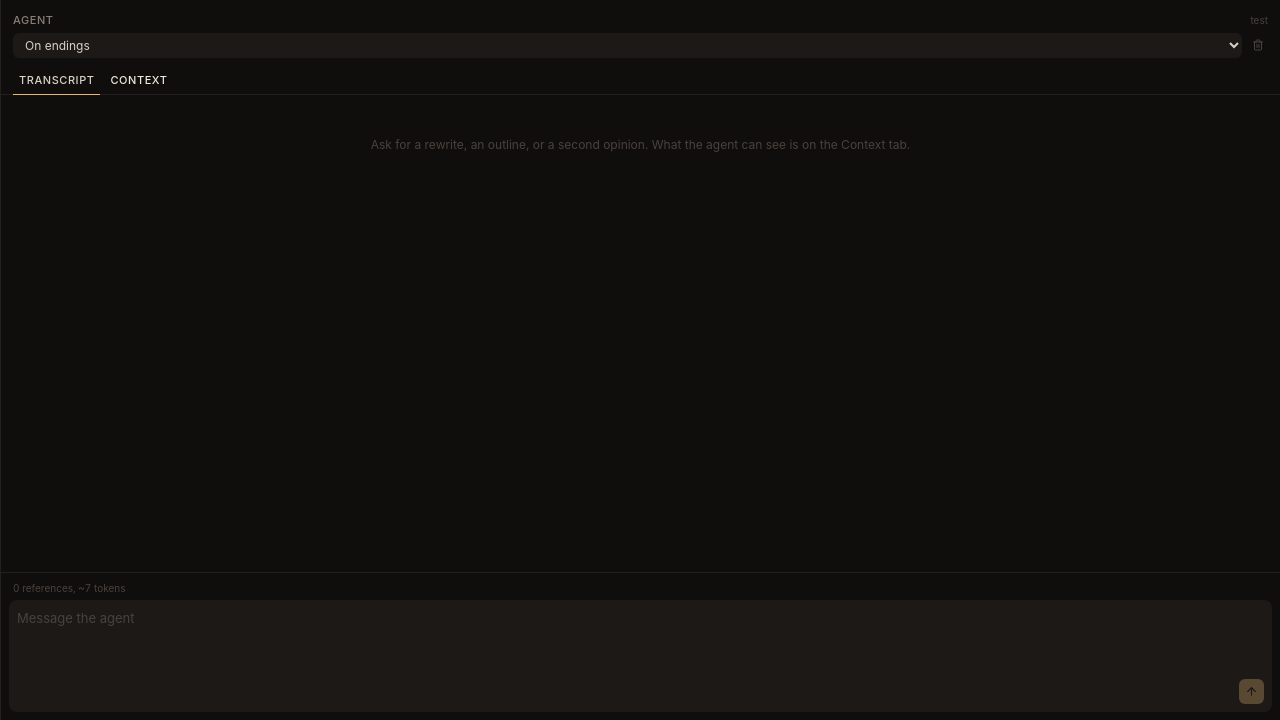
Scenario: a reply that points › should show the passage the reply named, in its own words
This screenshot has width=1280, height=720.
Type "Tighten this" into the text box labelled "Message the agent".
click(624, 656); type("Tighten this")  # box [17, 608, 1231, 704]
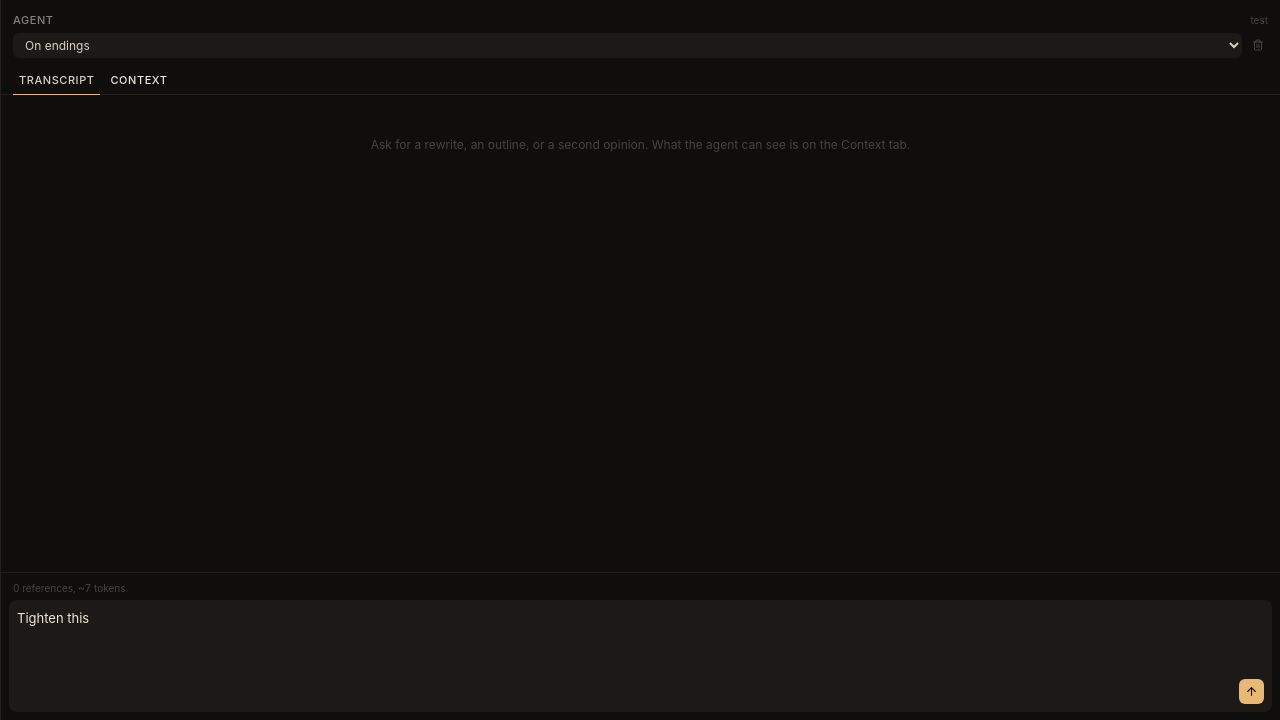
Click the button named "Send message".
click(1252, 692)  # box [1239, 679, 1264, 704]
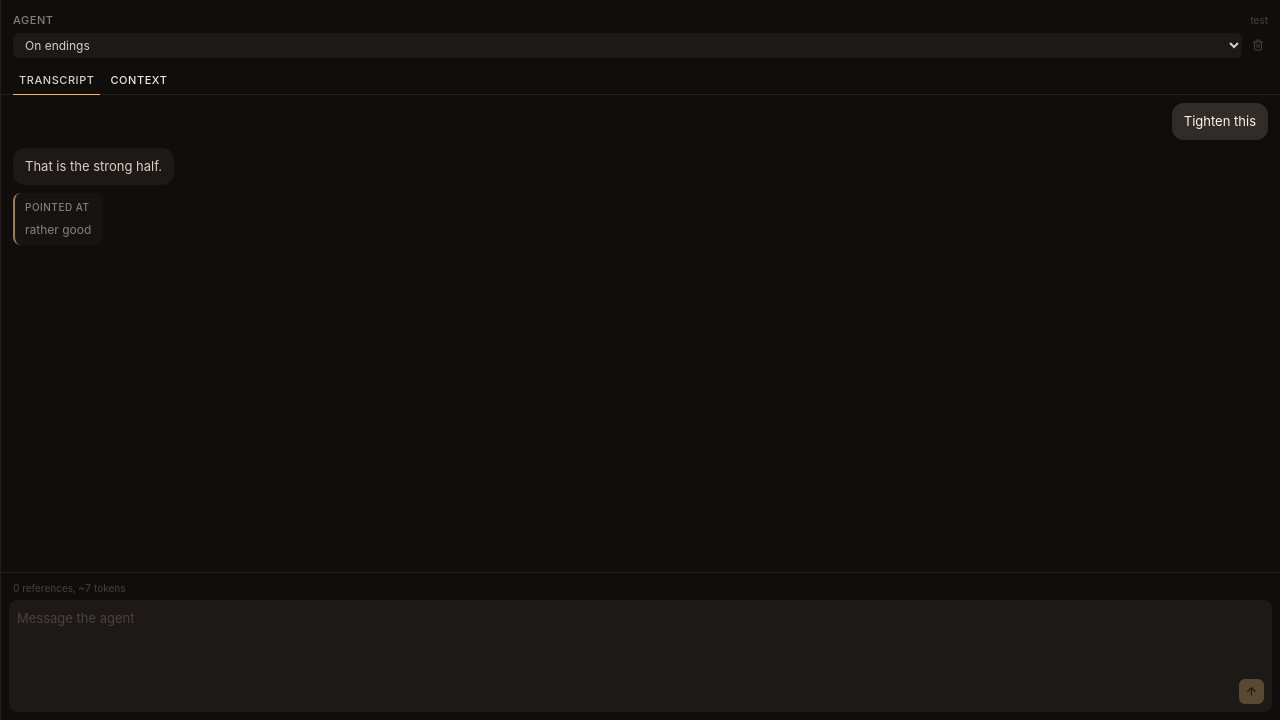
expect the button with aria-label "Show the passage the agent pointed at" shows "rather good": met, box [13, 193, 103, 245]
